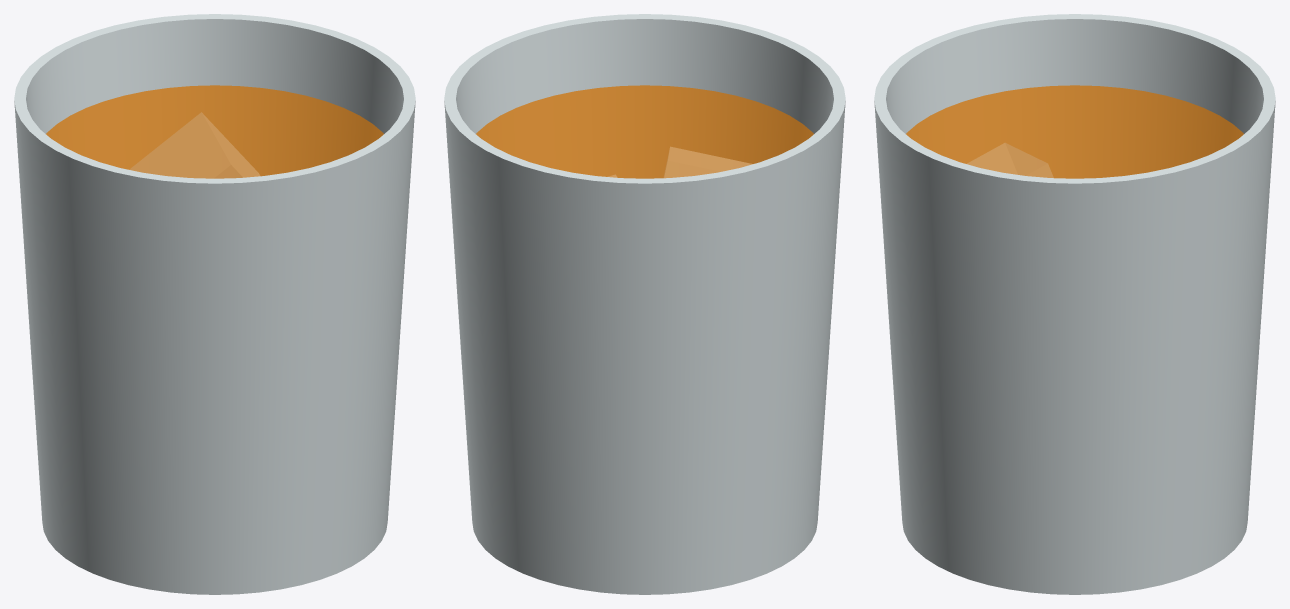
File: caipirinha-laranja.glb
3 renders of one model, left to right at view 1: azimuth 30°, elevation 25°; view 2: azimuth 150°, elevation 25°; view 3: azimuth 270°, elevation 25°, orthographic.
Visible parts, largest first — view 1: caipirinha-laranja; view 2: caipirinha-laranja; view 3: caipirinha-laranja.
Boxes of the visible parts, x1=… form: caipirinha-laranja: x1=14, y1=14, x2=415, y2=594; caipirinha-laranja: x1=444, y1=14, x2=845, y2=594; caipirinha-laranja: x1=874, y1=14, x2=1275, y2=594.
Size of the model in its own units: 0.086 by 0.1 by 0.086.
